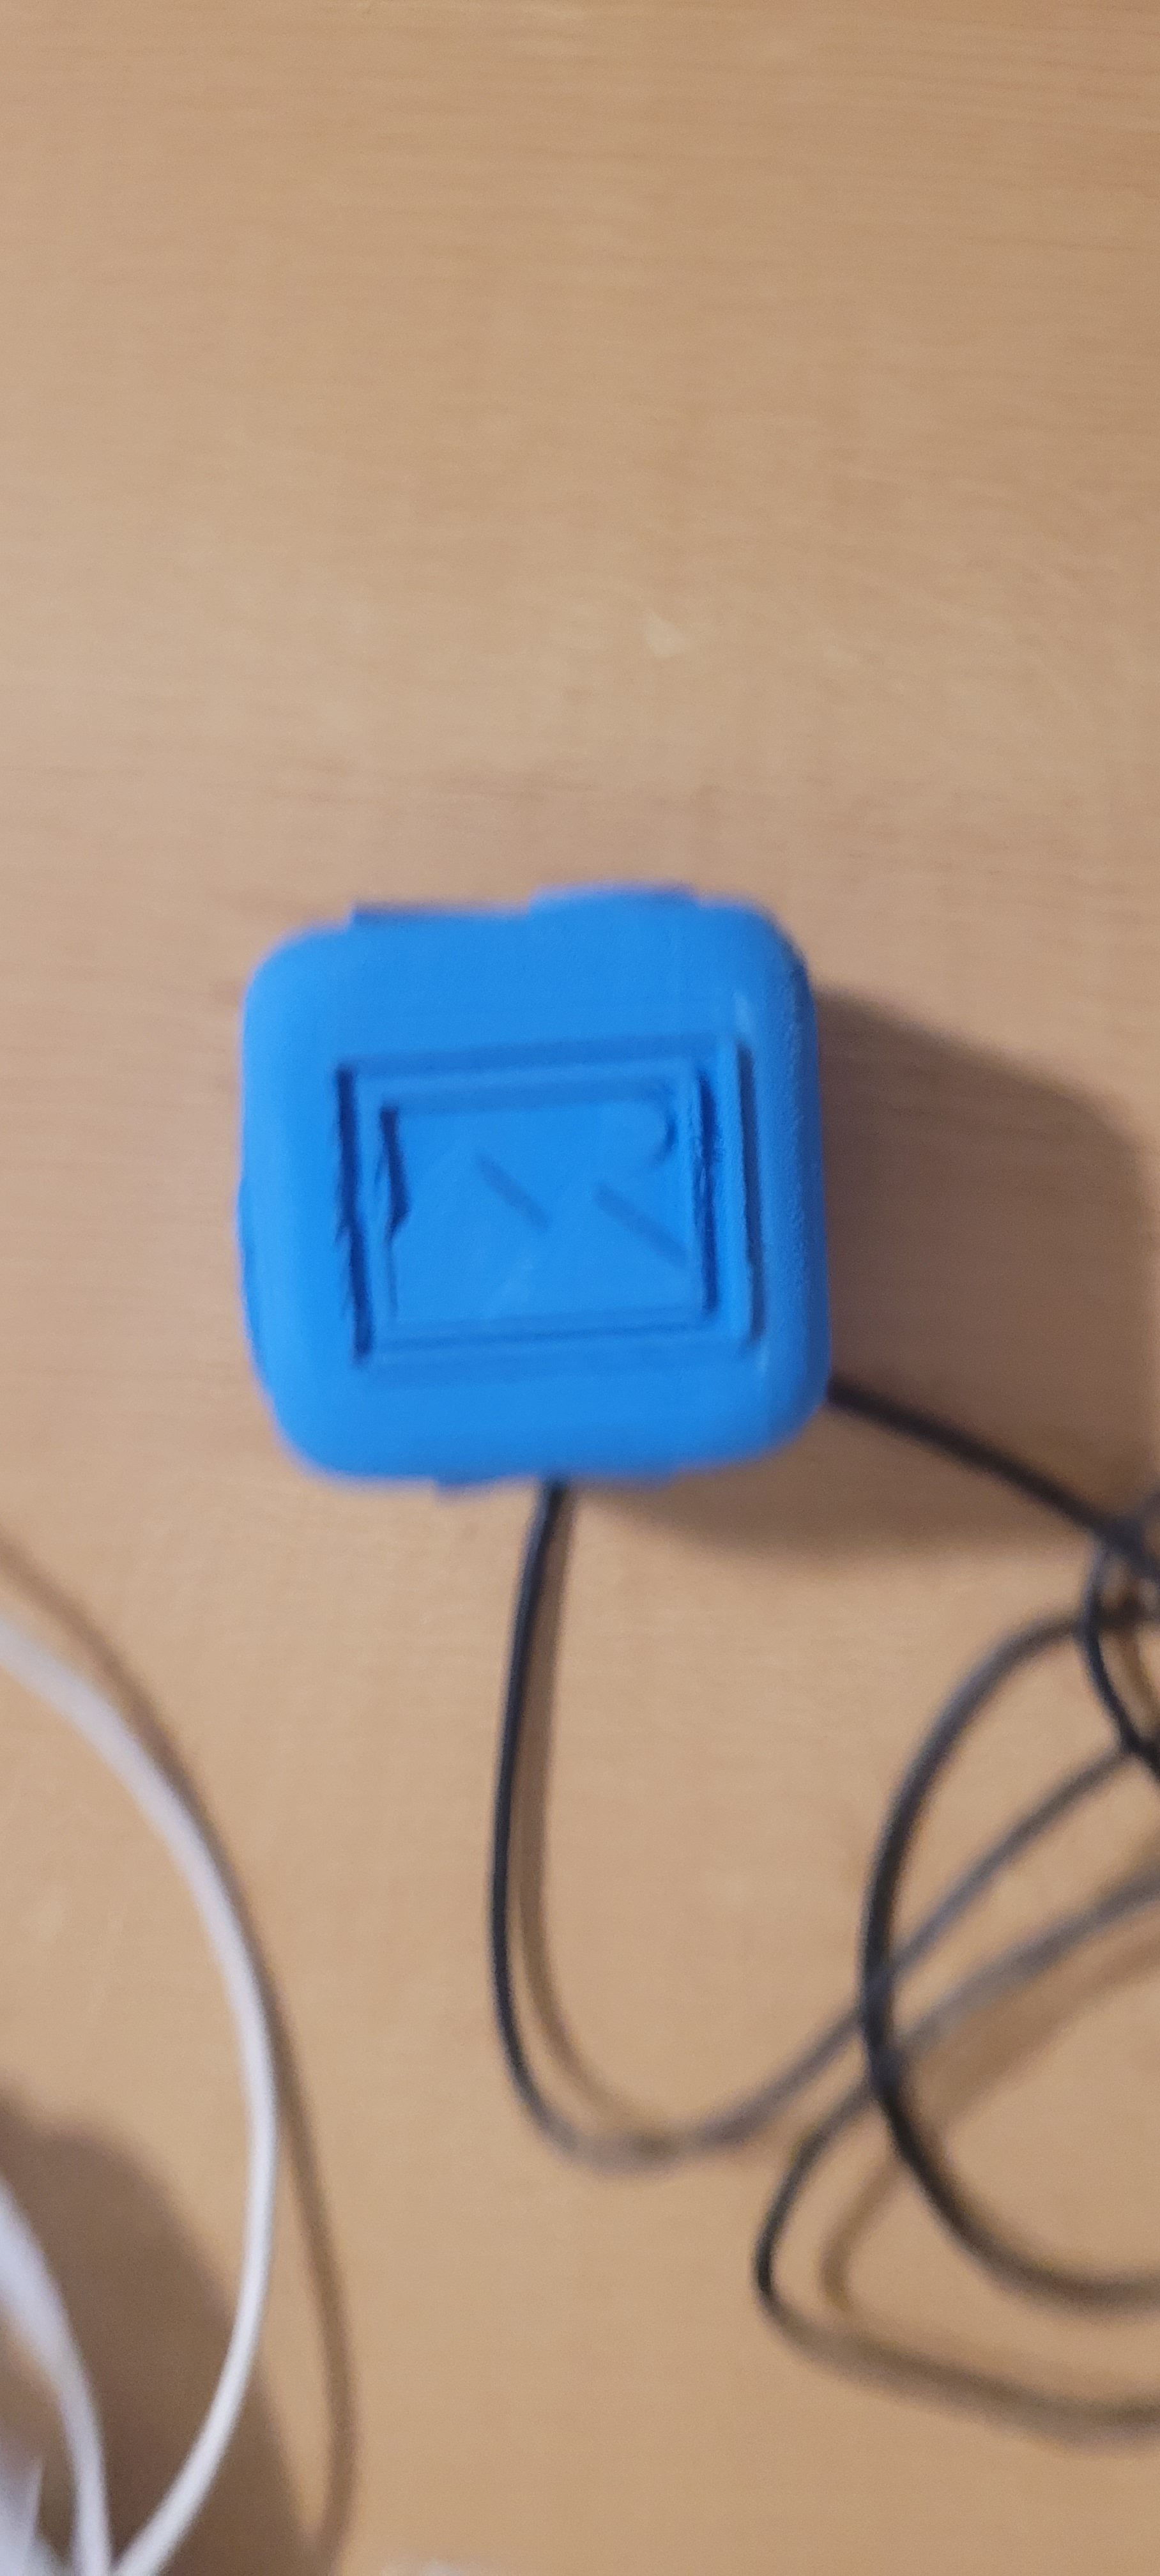Story: (291, 969, 784, 1373)
